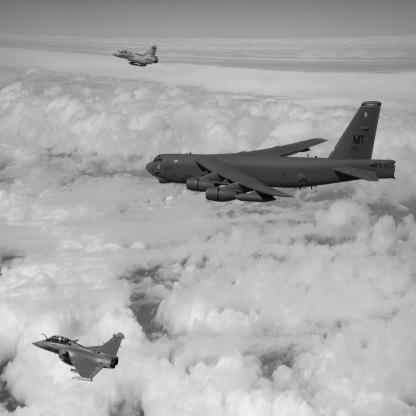B52: (147, 102, 396, 203)
Mirage2000: (113, 45, 159, 68)
Rafale: (33, 333, 126, 384)
